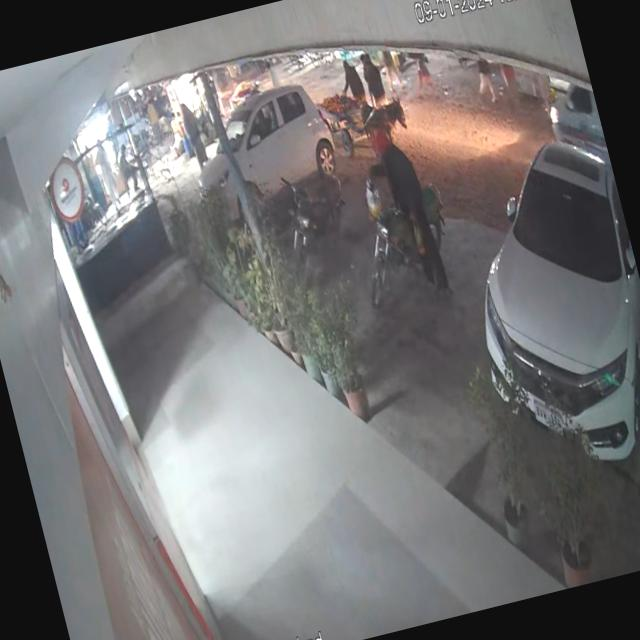Car: (429, 114, 640, 495), (161, 68, 352, 222)
Motorcycle: (338, 152, 473, 326), (262, 153, 367, 286)
